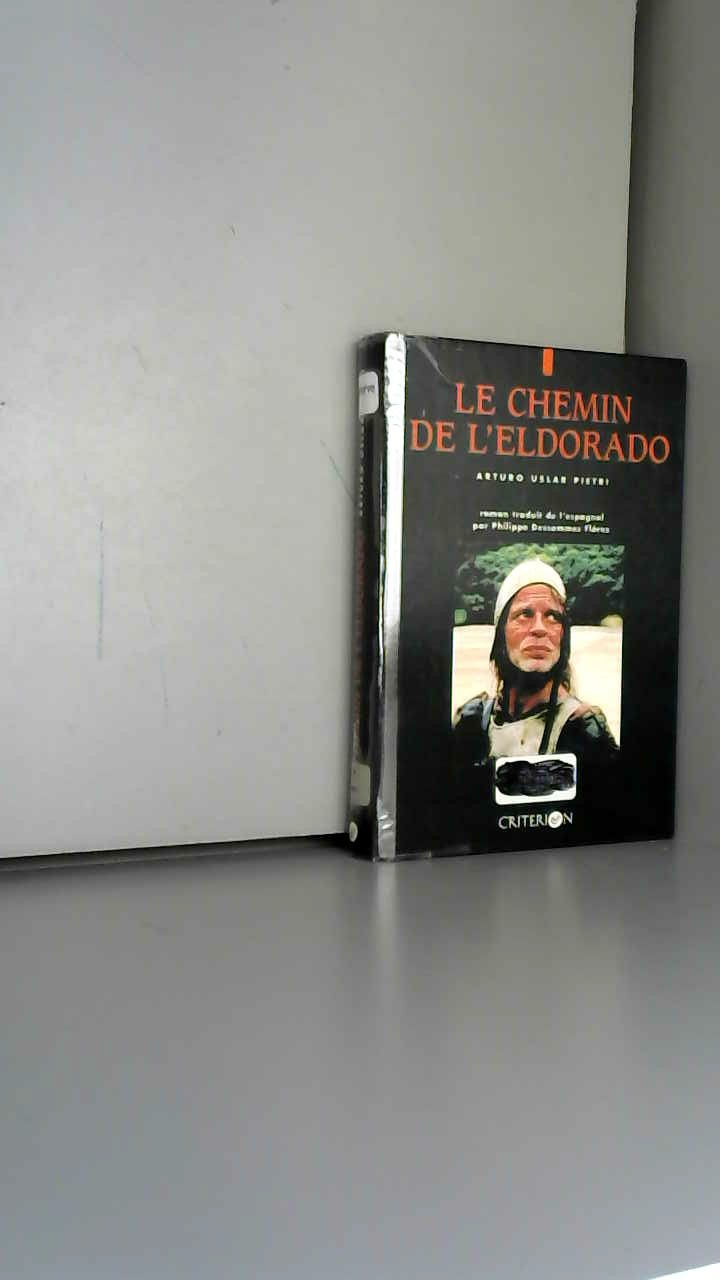book: (320, 300, 720, 898)
